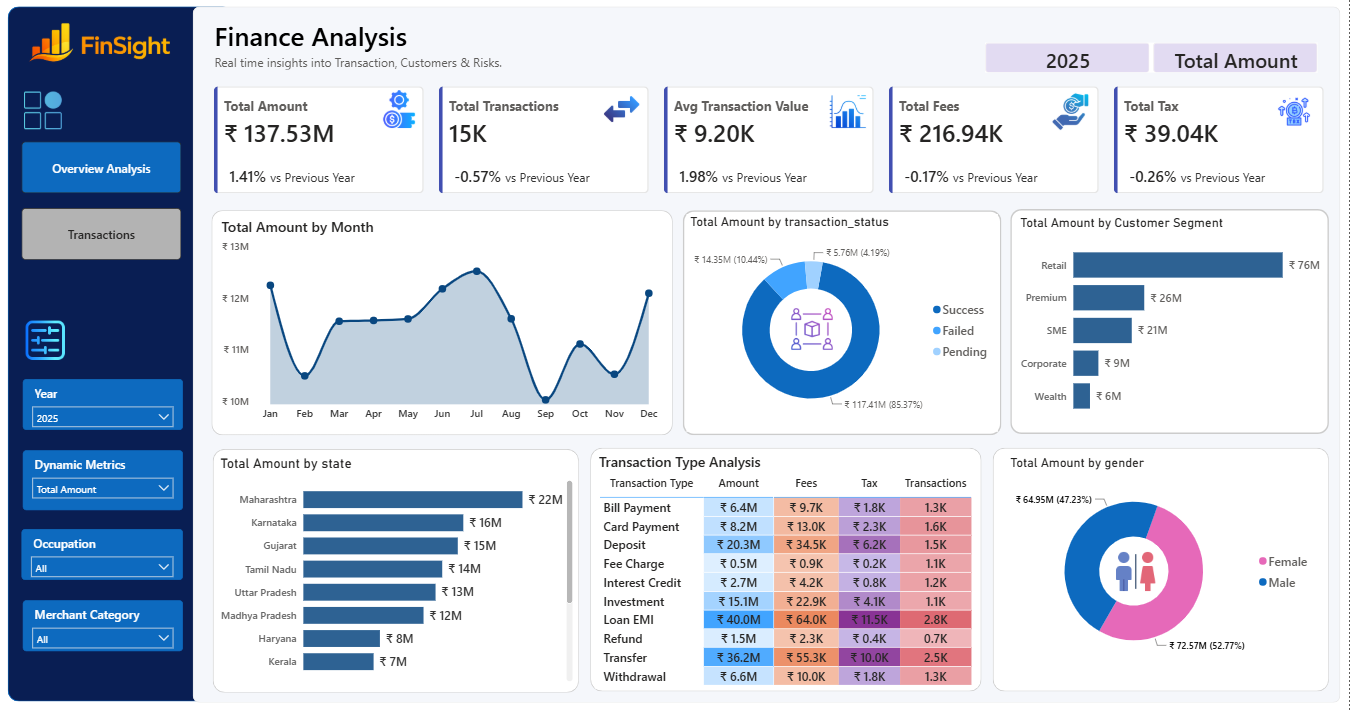

What the dashboard file says about the page in this screenshot:
{"tool":"powerbi","page":{"name":"Overview Analysis","canvas":[1800,950],"ordinal":0},"visuals":[{"type":"shape","box":[11.7,10,301.7,926.7],"z":0},{"type":"shape","box":[258.3,10,1530,928.3],"z":1000},{"type":"image","box":[25,20,223.3,76.7],"z":2000},{"type":"cardVisual","fields":{"Data":["Transactions.Dashboard Title"]},"box":[258.3,10,455,113.3],"z":3000},{"type":"cardVisual","fields":{"Data":["Transactions.Total Amount0","Transactions.Total Transactions","Transactions.Avg Transaction Value","Transactions.Total Fees","Transactions.Total Tax"]},"box":[280,110,1493.3,155],"z":4000},{"type":"slicer","fields":{"Values":["Calendar Table.Year"]},"box":[32.3,507.4,213.3,68.3],"z":5000},{"type":"image","box":[507.9,121.1,50,50],"z":6000},{"type":"image","box":[1701.1,125.3,50,50],"z":7000},{"type":"image","box":[1402.8,125.3,50,50],"z":8000},{"type":"image","box":[1106.1,125.3,50,50],"z":9000},{"type":"image","box":[804.6,121.1,50,50],"z":10000},{"type":"slicer","fields":{"Values":["Dynamic Metrics.Dynamic Metrics"]},"box":[32.3,601.6,213.3,80],"z":11000},{"type":"shape","box":[283.3,281.6,615,300],"z":12000},{"type":"areaChart","fields":{"Y":["Transactions.Total Amount"],"Category":["Calendar Table.Month"]},"box":[291.7,289.9,598.3,281.7],"z":13000},{"type":"cardVisual","fields":{"Data":["Transactions.Selected Year","Transactions.Selected Dynamic Measure"]},"box":[1310,53.3,453.3,50],"z":14000},{"type":"shape","box":[911.7,281,425,300],"z":15000},{"type":"donutChart","fields":{"Y":["Transactions.Total Amount"],"Category":["Transactions.transaction_status"]},"box":[916.7,286.6,415,290],"z":16000},{"type":"shape","box":[1348.3,279.3,425,300],"z":17000},{"type":"barChart","fields":{"Y":["Transactions.Total Amount"],"Category":["Customers.customer_segment"]},"box":[1356.7,287.7,410,281.7],"z":18000},{"type":"shape","box":[285,600,488.3,325],"z":19000},{"type":"barChart","fields":{"Y":["Transactions.Total Amount"],"Category":["Customers.state"]},"box":[290,608.3,480,306.7],"z":20000},{"type":"shape","box":[788.3,598.3,521.7,325],"z":21000},{"type":"tableEx","title":"Transaction Type Analysis","fields":{"Values":["Transactions.transaction_type","Transactions.Total Amount","Transactions.Total Fees","Transactions.Total Tax","Transactions.Total Transactions"]},"box":[795,603.3,506.7,316.7],"z":22000},{"type":"shape","box":[1325,598.3,448.3,325],"z":23000},{"type":"donutChart","fields":{"Y":["Transactions.Total Amount"],"Category":["Customers.gender"]},"box":[1343.3,608.3,415,290],"z":24000},{"type":"image","box":[1050,410,68.3,60],"z":25000},{"type":"image","box":[1481.7,733.3,68.3,60],"z":26000},{"type":"slicer","fields":{"Values":["Customers.occupation"]},"box":[30.6,707.5,215,68.3],"z":27000},{"type":"slicer","fields":{"Values":["Transactions.merchant_category"]},"box":[32.3,801.7,213.3,68.3],"z":28000},{"type":"pageNavigator","box":[30,190,213.3,158.3],"z":29000},{"type":"image","box":[33.3,123.3,50,50],"z":30000},{"type":"image","box":[31.7,425.4,60,60],"z":31000}]}

Visuals, with their boxes on the page's 1800x950 design canvas (x1, y1, x2, y2). These are canvas units, not pixel positions in the 1350x711 screenshot, which may show the page scaled, cropped or inside an application window:
shape: bbox=(12, 10, 313, 937)
shape: bbox=(258, 10, 1788, 938)
image: bbox=(25, 20, 248, 97)
cardVisual - Transactions.Dashboard Title: bbox=(258, 10, 713, 123)
cardVisual - Transactions.Total Amount0 x Transactions.Total Transactions: bbox=(280, 110, 1773, 265)
slicer - Calendar Table.Year: bbox=(32, 507, 246, 576)
image: bbox=(508, 121, 558, 171)
image: bbox=(1701, 125, 1751, 175)
image: bbox=(1403, 125, 1453, 175)
image: bbox=(1106, 125, 1156, 175)
image: bbox=(805, 121, 855, 171)
slicer - Dynamic Metrics.Dynamic Metrics: bbox=(32, 602, 246, 682)
shape: bbox=(283, 282, 898, 582)
areaChart - Transactions.Total Amount x Calendar Table.Month: bbox=(292, 290, 890, 572)
cardVisual - Transactions.Selected Year x Transactions.Selected Dynamic Measure: bbox=(1310, 53, 1763, 103)
shape: bbox=(912, 281, 1337, 581)
donutChart - Transactions.Total Amount x Transactions.transaction_status: bbox=(917, 287, 1332, 577)
shape: bbox=(1348, 279, 1773, 579)
barChart - Transactions.Total Amount x Customers.customer_segment: bbox=(1357, 288, 1767, 569)
shape: bbox=(285, 600, 773, 925)
barChart - Transactions.Total Amount x Customers.state: bbox=(290, 608, 770, 915)
shape: bbox=(788, 598, 1310, 923)
"Transaction Type Analysis" tableEx: bbox=(795, 603, 1302, 920)
shape: bbox=(1325, 598, 1773, 923)
donutChart - Transactions.Total Amount x Customers.gender: bbox=(1343, 608, 1758, 898)
image: bbox=(1050, 410, 1118, 470)
image: bbox=(1482, 733, 1550, 793)
slicer - Customers.occupation: bbox=(31, 708, 246, 776)
slicer - Transactions.merchant_category: bbox=(32, 802, 246, 870)
pageNavigator: bbox=(30, 190, 243, 348)
image: bbox=(33, 123, 83, 173)
image: bbox=(32, 425, 92, 485)
